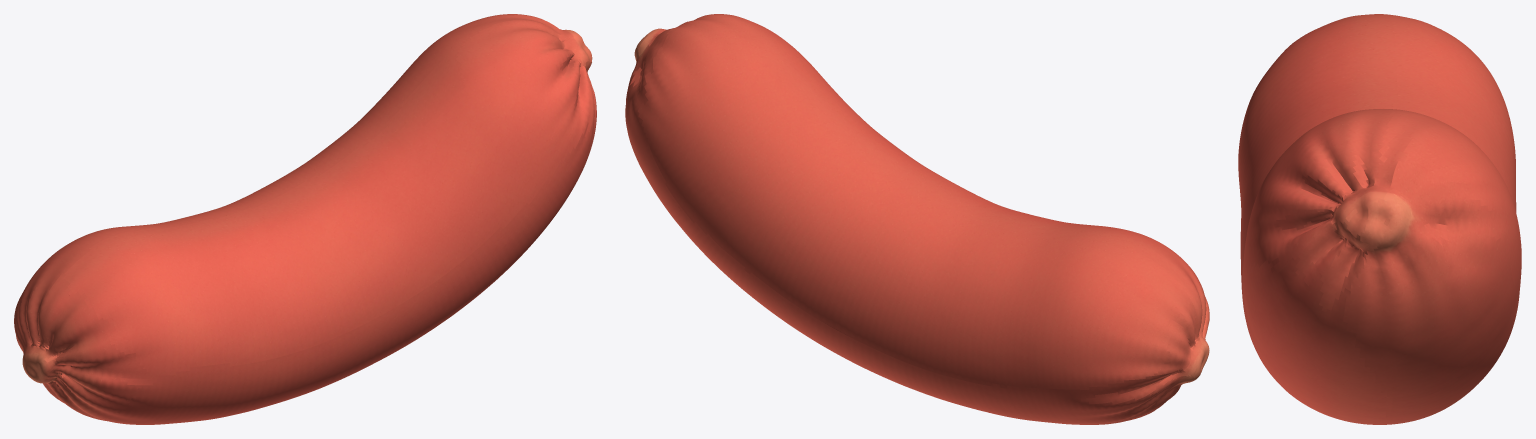
File: Meshy_AI_Watercolor_Sausage_1122031407_texture.glb
3 views of the same model, side by side, from view 1: azimuth 30°, elevation 25°; view 2: azimuth 150°, elevation 25°; view 3: azimuth 270°, elevation 25° (orthographic). The views are drawn at different scales.
Visible parts, largest first — view 1: Mesh0; view 2: Mesh0; view 3: Mesh0.
Part boxes in pixels (x1=…): Mesh0: x1=14, y1=14, x2=596, y2=424; Mesh0: x1=625, y1=14, x2=1209, y2=424; Mesh0: x1=1238, y1=14, x2=1521, y2=424.
Bounding box in the file's own units: 1.9 × 1 × 0.6153.
1 material, 1 textured.
